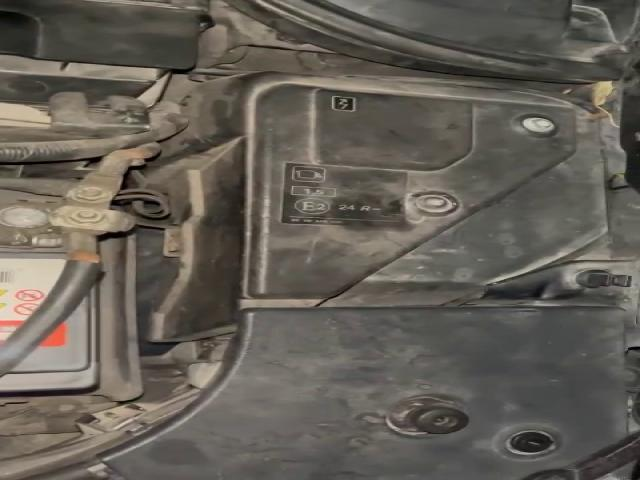accumulator: (6, 176, 141, 396)
fuse_box: (124, 72, 632, 341)
